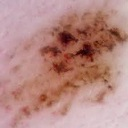Melanoma: (44, 23, 116, 80)
